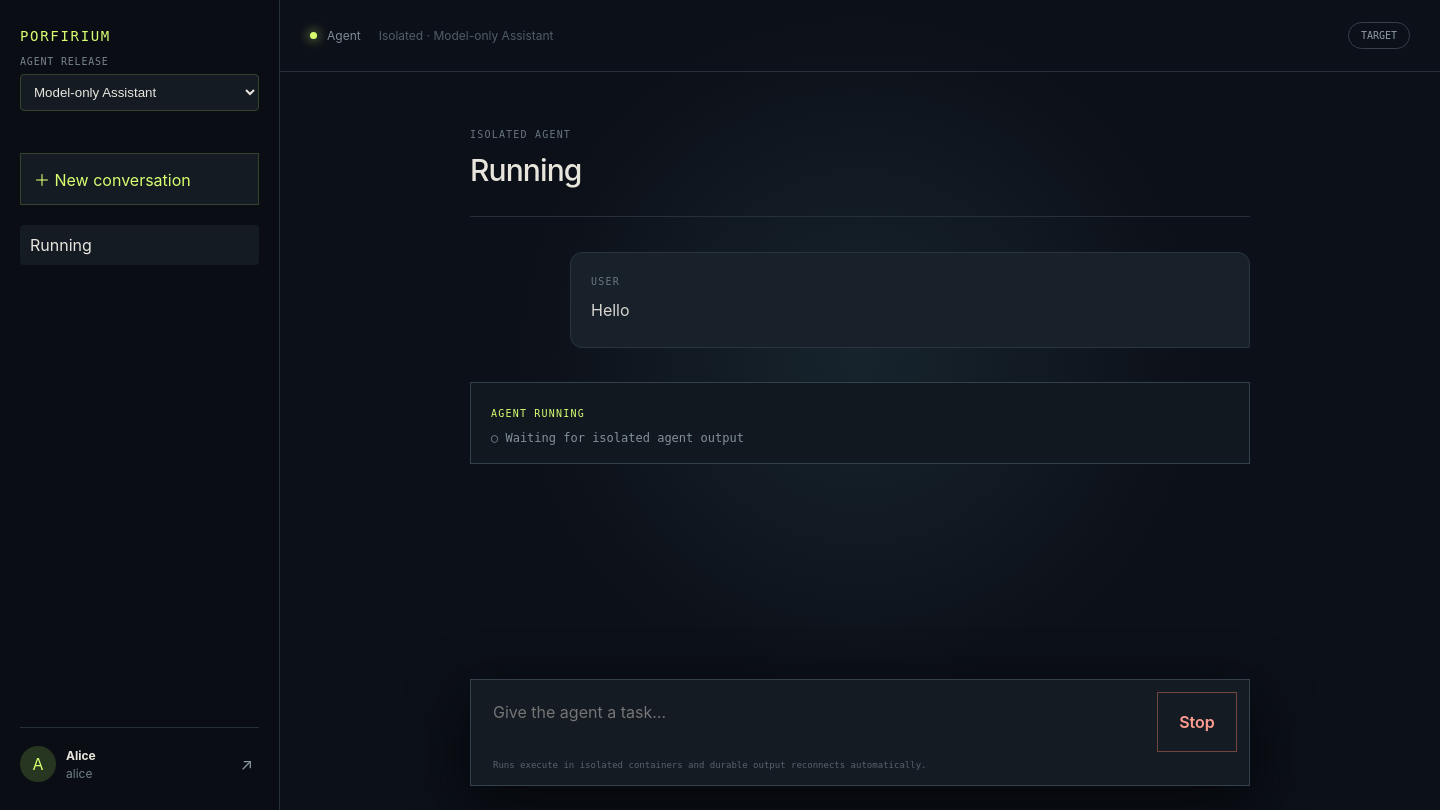
Scenario: App › clears the running state from the authoritative projection after cancellation
The image size is (1440, 810).
Click the button "Stop".
click(1197, 722)  # box [1157,692,1237,752]
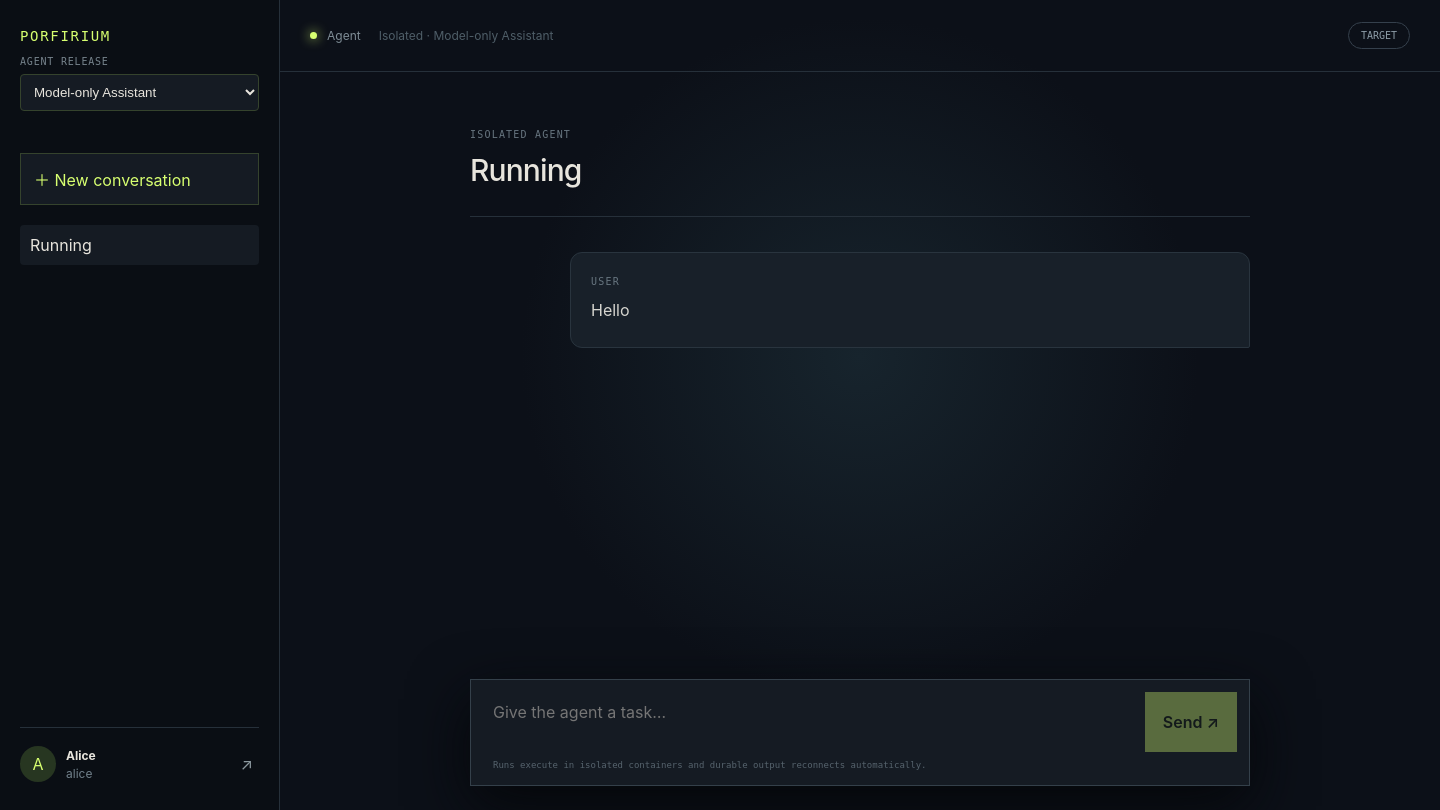
Expected: the text box named "Message" is enabled, [483,692,1137,752]
Result: the button "Stop" is gone
